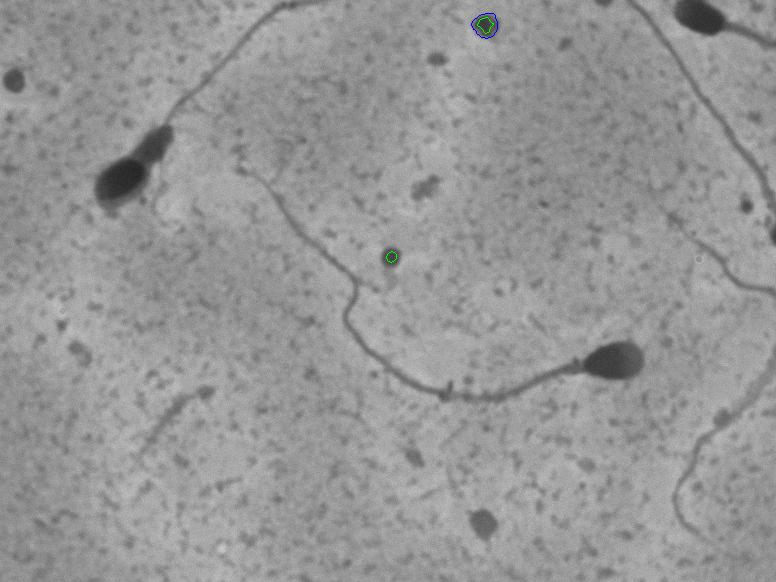Abnormal: (57, 12, 254, 268)
Normal: (224, 172, 653, 442)
